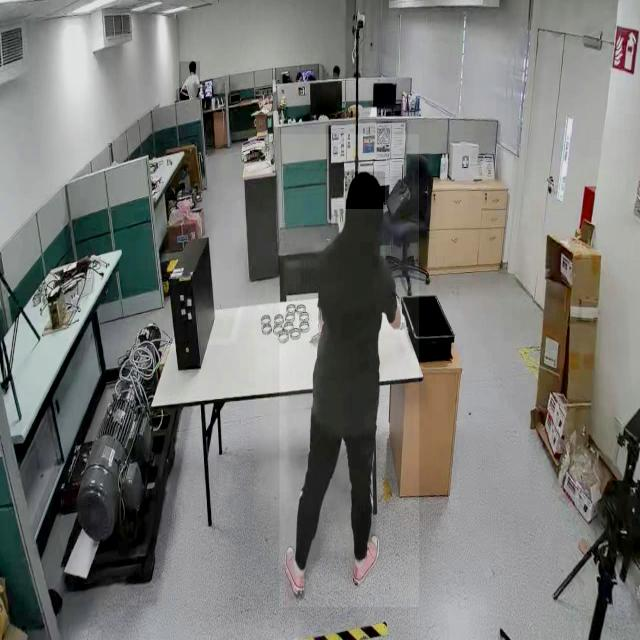head_nohelmet: (345, 172, 385, 210), (189, 60, 197, 66)
person: (279, 134, 419, 608), (178, 61, 200, 100)
shoes: (351, 532, 382, 588), (283, 541, 310, 600)
